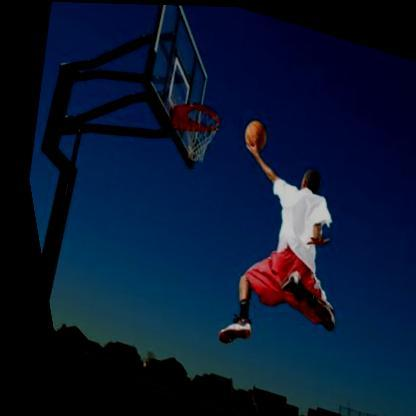basketball: (233, 115, 270, 155)
rim: (174, 99, 221, 137)
